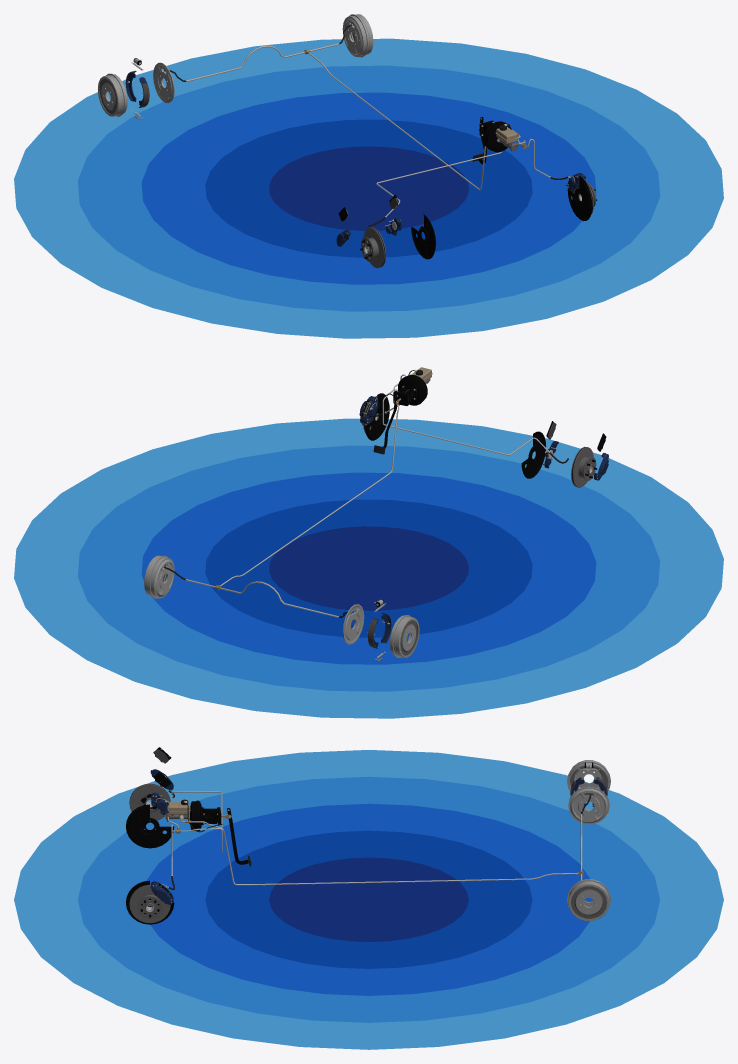
The model's file is tcc_models-brakesMAIN.glb.
3 views of the same model, one above another, from view 1: azimuth 30°, elevation 25°; view 2: azimuth 150°, elevation 25°; view 3: azimuth 270°, elevation 25° (orthographic).
Visible parts, largest first — view 1: Circle, tambor, disco_completo, brake lines, brake_booster; view 2: Circle, tambor, disco_completo, brake lines, brake_booster; view 3: Circle, disco_completo, tambor, brake lines, brake_booster.
Part boxes in pixels (box(x1,y1,x2,y2)): Circle: box(14, 38, 723, 338); tambor: box(98, 14, 373, 120); disco_completo: box(336, 173, 597, 268); brake lines: box(164, 24, 568, 226); brake_booster: box(472, 117, 519, 164); Circle: box(14, 418, 723, 718); tambor: box(144, 555, 419, 661); disco_completo: box(359, 393, 608, 487); brake lines: box(164, 374, 568, 617); brake_booster: box(373, 367, 432, 454); Circle: box(14, 750, 723, 1049); disco_completo: box(126, 747, 174, 924); tambor: box(567, 760, 610, 920); brake lines: box(167, 790, 591, 889); brake_booster: box(165, 799, 251, 866).
Bounding box in the file's own units: 4 × 0.7457 × 4.
Materials: 11 (6 with a texture image).
